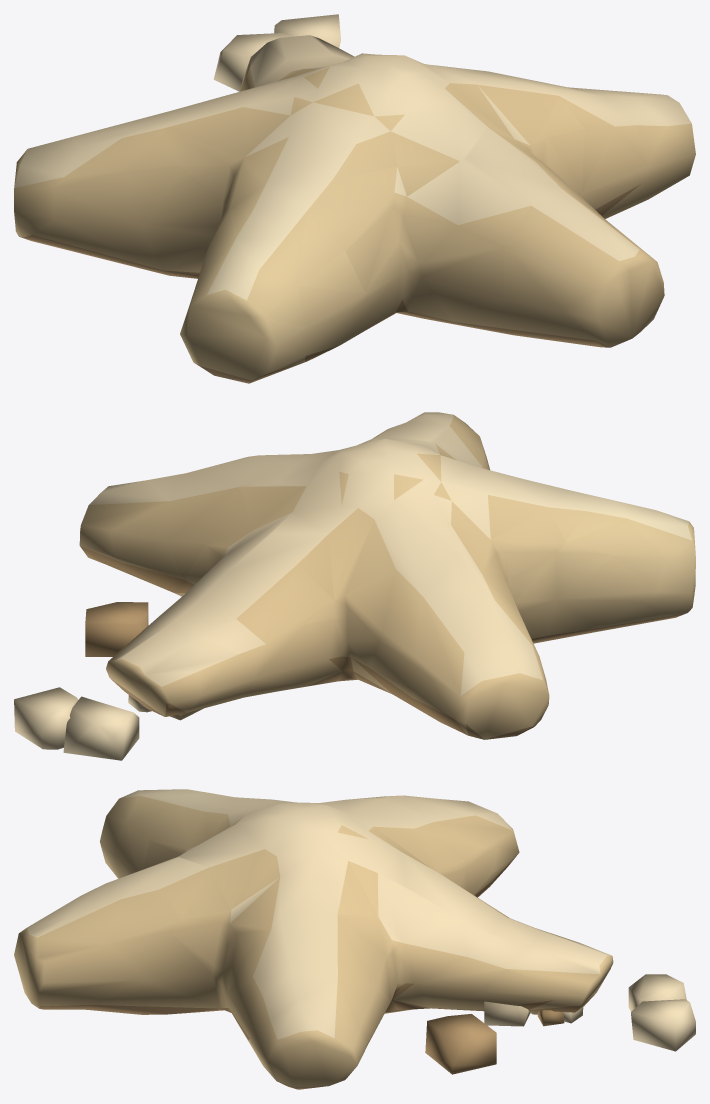
File: shore_sand_pie_c_lod1.glb
3 views of the same model, one above another, from view 1: azimuth 30°, elevation 25°; view 2: azimuth 150°, elevation 25°; view 3: azimuth 270°, elevation 25° (orthographic). The views are drawn at different scales.
Visible parts, largest first — view 1: shore_sand_pie_c.001; view 2: shore_sand_pie_c.001; view 3: shore_sand_pie_c.001.
Part boxes in pixels (x1,y1,x2,y2): shore_sand_pie_c.001: [14, 14, 695, 383]; shore_sand_pie_c.001: [14, 412, 695, 760]; shore_sand_pie_c.001: [14, 789, 695, 1089].
Bounding box in the file's own units: 4.58 × 1.46 × 5.52.
